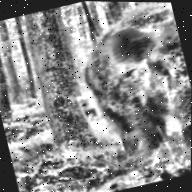boar: (65, 1, 192, 167)
